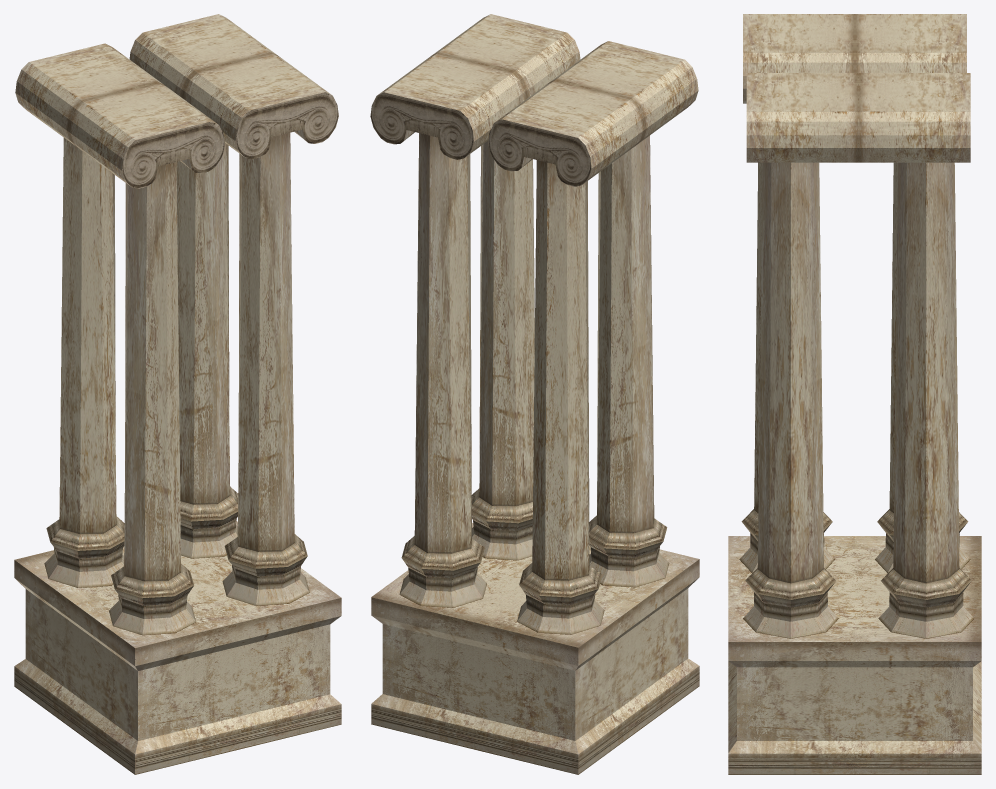
Rendered from svpergola9.dae.
3 renders of one model, left to right at view 1: azimuth 30°, elevation 25°; view 2: azimuth 150°, elevation 25°; view 3: azimuth 270°, elevation 25°, orthographic. The views are drawn at different scales.
Parts seen in each view (by area): view 1: cube4_copy20-0; view 2: cube4_copy20-0; view 3: cube4_copy20-0.
Boxes of the visible parts, x1,y1,x2,y2 form: cube4_copy20-0: [14, 14, 341, 774]; cube4_copy20-0: [370, 14, 699, 774]; cube4_copy20-0: [728, 14, 981, 774].
Bounding box in the file's own units: 190 × 520 × 181.
